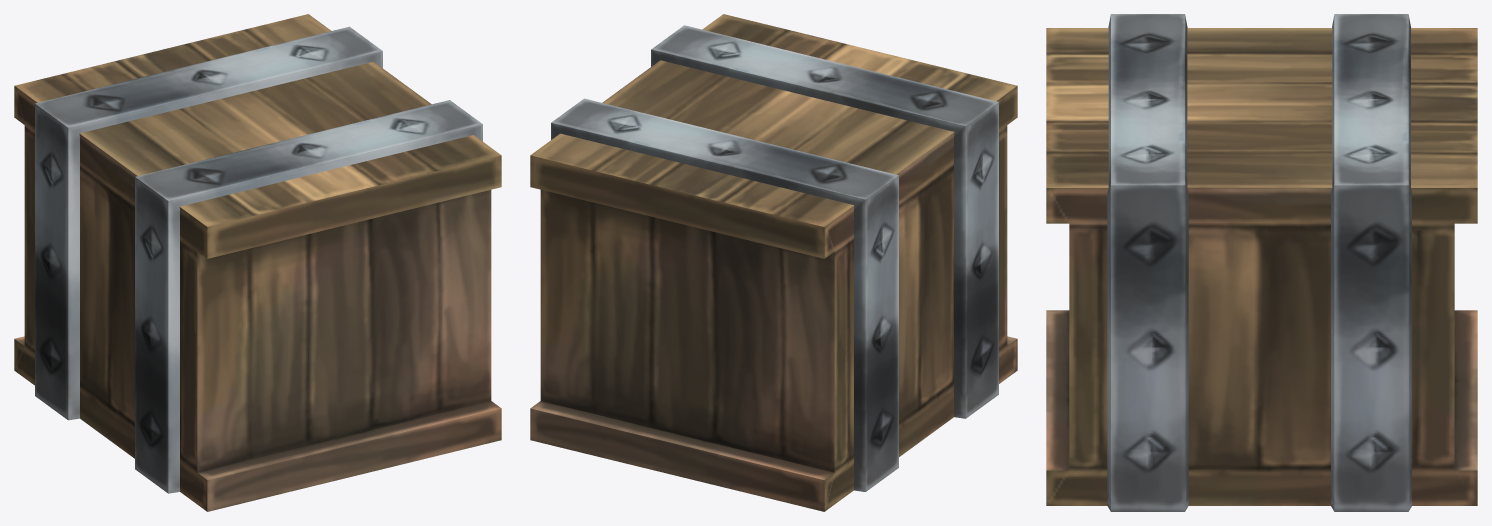
File: crate_01.FBX
The picture shows the model from 3 angles, left to right: view 1: azimuth 30°, elevation 25°; view 2: azimuth 150°, elevation 25°; view 3: azimuth 270°, elevation 25°; orthographic projection. The views are drawn at different scales.
Parts seen in each view (by area): view 1: crate_01; view 2: crate_01; view 3: crate_01.
Boxes of the visible parts, bbox=[...] form: crate_01: bbox=[14, 14, 501, 511]; crate_01: bbox=[530, 14, 1017, 511]; crate_01: bbox=[1046, 14, 1477, 511].
Size of the model in its own units: 35.13 by 31.21 by 37.35.
